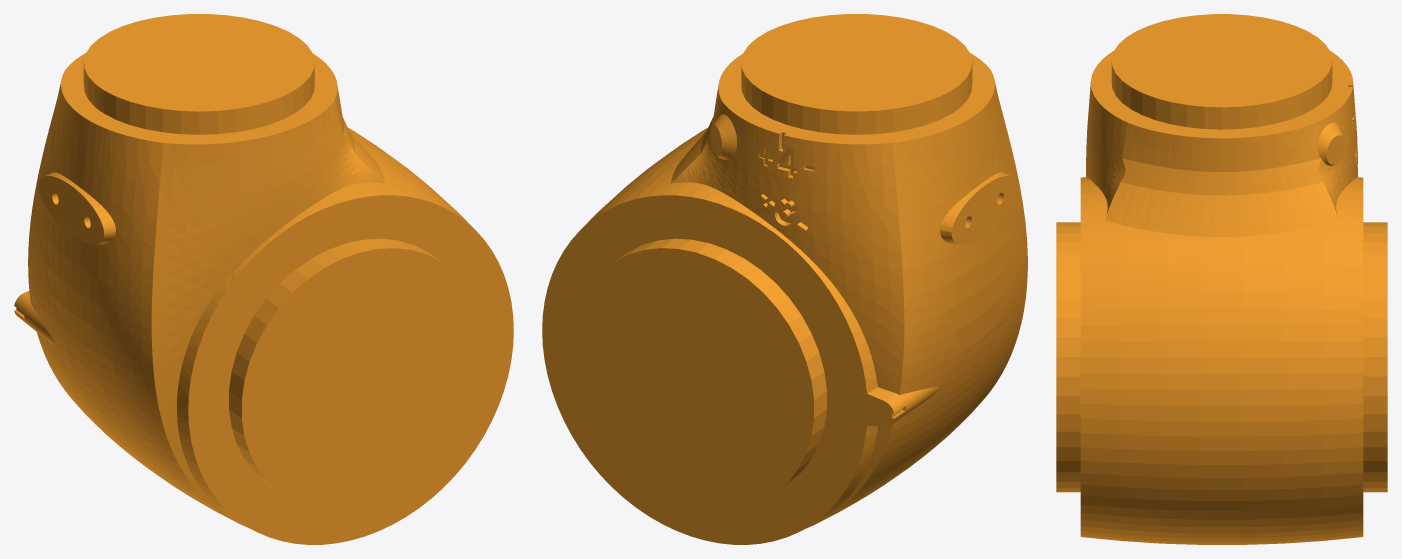
Rendered from KukaAgilusKRLink3.dae.
3 views of the same model, side by side, from view 1: azimuth 30°, elevation 25°; view 2: azimuth 150°, elevation 25°; view 3: azimuth 270°, elevation 25° (orthographic). The views are drawn at different scales.
Parts seen in each view (by area): view 1: KUKAKRLink3; view 2: KUKAKRLink3; view 3: KUKAKRLink3.
Boxes of the visible parts, box(x1,y1,x2,y2) form: KUKAKRLink3: box(14, 14, 513, 544); KUKAKRLink3: box(542, 14, 1027, 544); KUKAKRLink3: box(1056, 14, 1387, 544).
Size of the model in its own units: 0.1689 by 0.135 by 0.1934.
